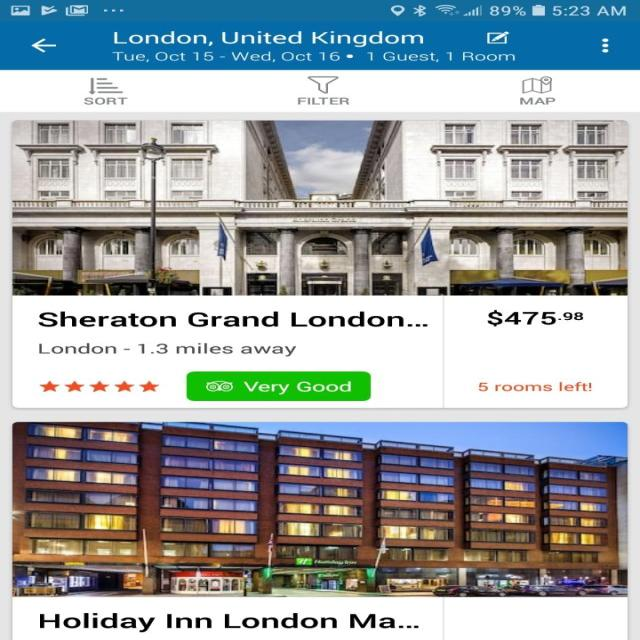Icon: (39, 380, 160, 392), (87, 76, 125, 94), (520, 76, 552, 93), (29, 38, 56, 53), (486, 30, 510, 44), (600, 36, 608, 53)
Image: (12, 120, 626, 296), (11, 421, 628, 596), (306, 75, 338, 93)
Text: (38, 612, 419, 633), (38, 310, 428, 328), (113, 30, 423, 48), (111, 52, 515, 62), (38, 342, 296, 356), (486, 310, 583, 326), (477, 381, 591, 391), (295, 95, 349, 104), (82, 96, 126, 105), (519, 96, 556, 105)
TextButton: (186, 371, 370, 401)
